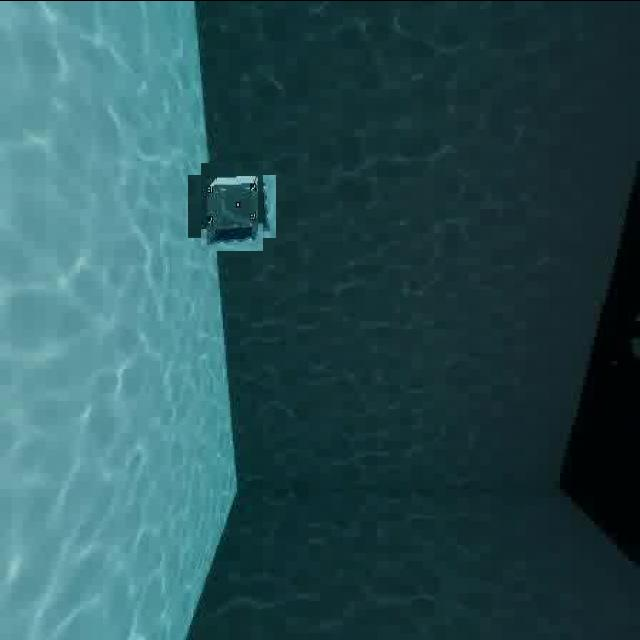Docking Station: (194, 168, 270, 244)
